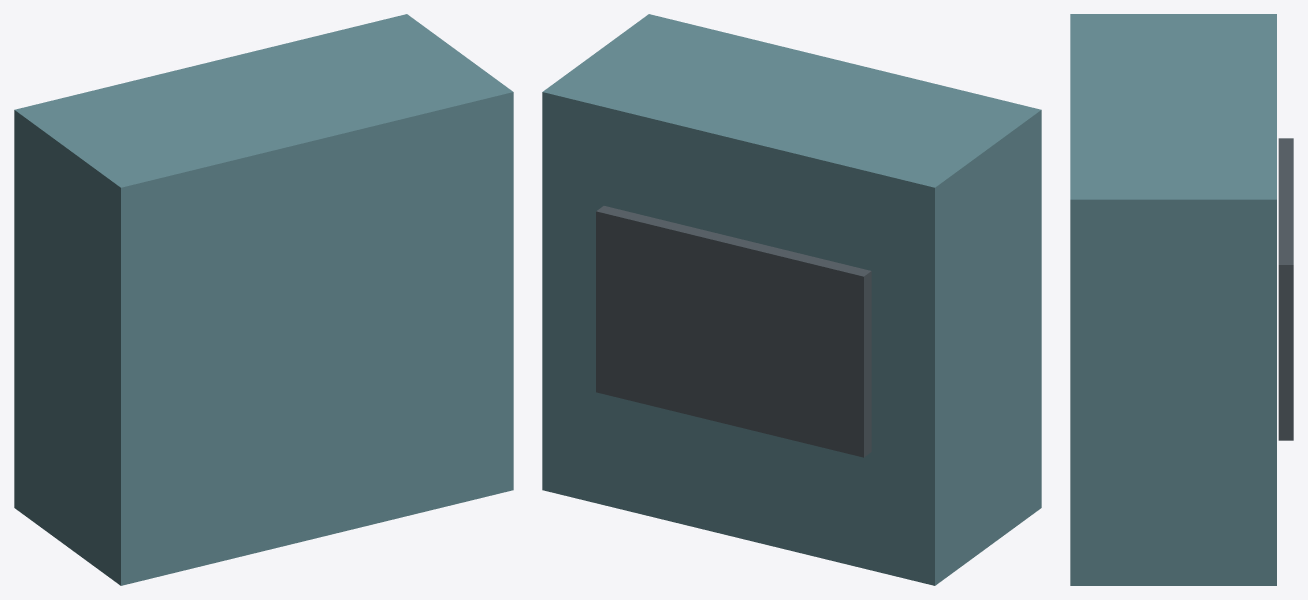
The model's file is iz2_electronics_solder_station.glb.
3 renders of one model, left to right at view 1: azimuth 30°, elevation 25°; view 2: azimuth 150°, elevation 25°; view 3: azimuth 270°, elevation 25°, orthographic. The views are drawn at different scales.
Parts seen in each view (by area): view 1: body; view 2: body; view 3: body.
Boxes of the visible parts, x1,y1,x2,y2 form: body: [14, 14, 513, 585]; body: [542, 14, 1041, 585]; body: [1070, 14, 1293, 585].
Size of the model in its own units: 1.14 by 1.1 by 0.5786.
